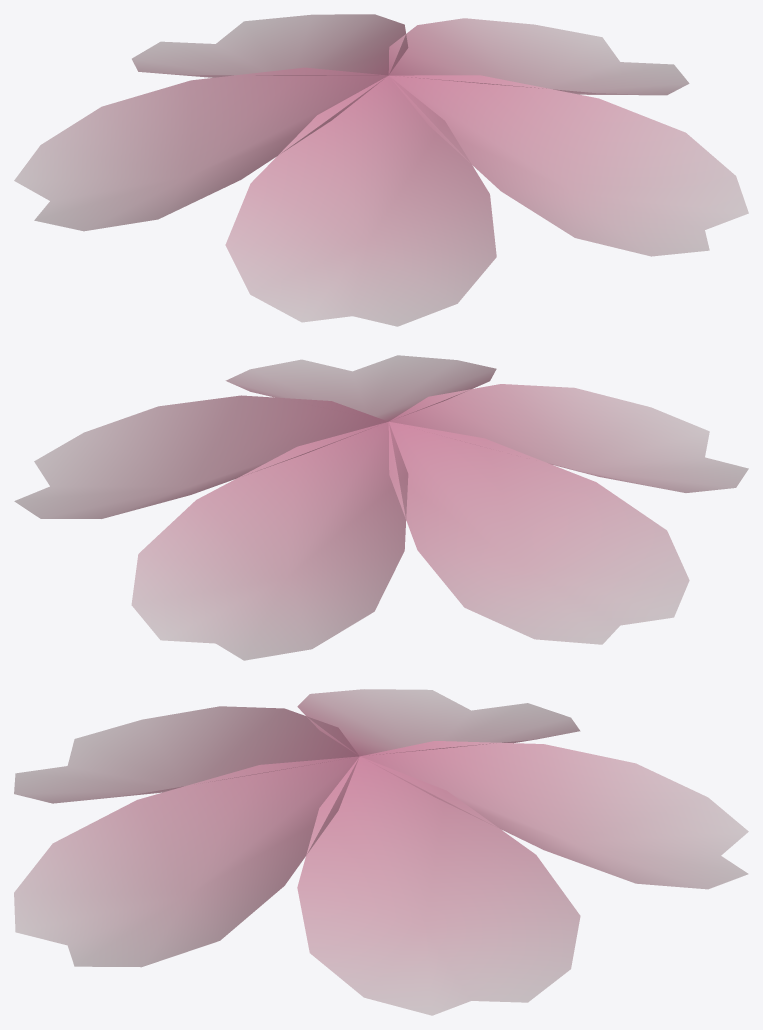
Rendered from flower.glb.
The picture shows the model from 3 angles, top to bottom: view 1: azimuth 30°, elevation 25°; view 2: azimuth 150°, elevation 25°; view 3: azimuth 270°, elevation 25°; orthographic projection. The views are drawn at different scales.
Visible parts, largest first — view 1: WebFlower; view 2: WebFlower; view 3: WebFlower.
Boxes of the visible parts, bbox=[...] form: WebFlower: bbox=[14, 14, 748, 326]; WebFlower: bbox=[14, 355, 748, 660]; WebFlower: bbox=[14, 689, 748, 1015].
Size of the model in its own units: 0.221 by 0.0314 by 0.2106.
